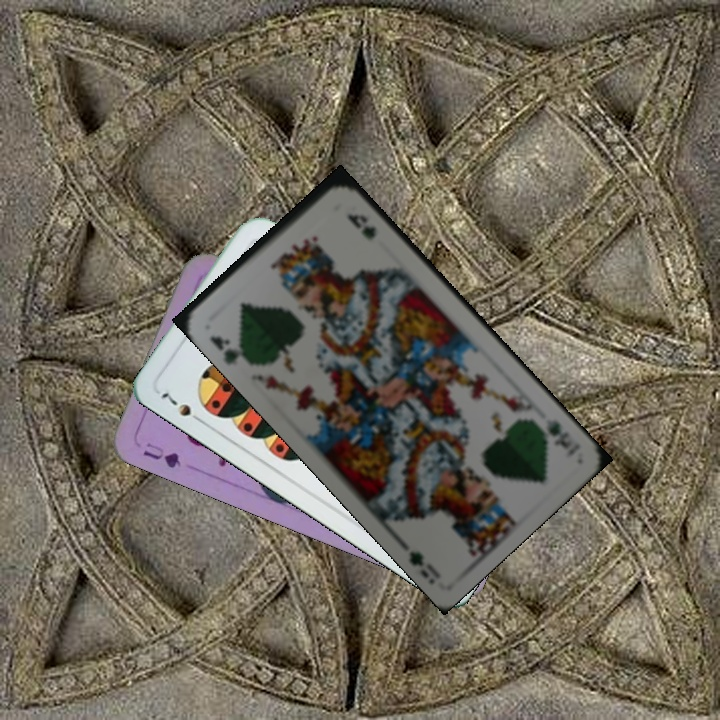GK: (205, 332, 247, 368), (542, 415, 575, 452)
GU: (139, 438, 184, 471)
S7: (156, 388, 207, 426)
